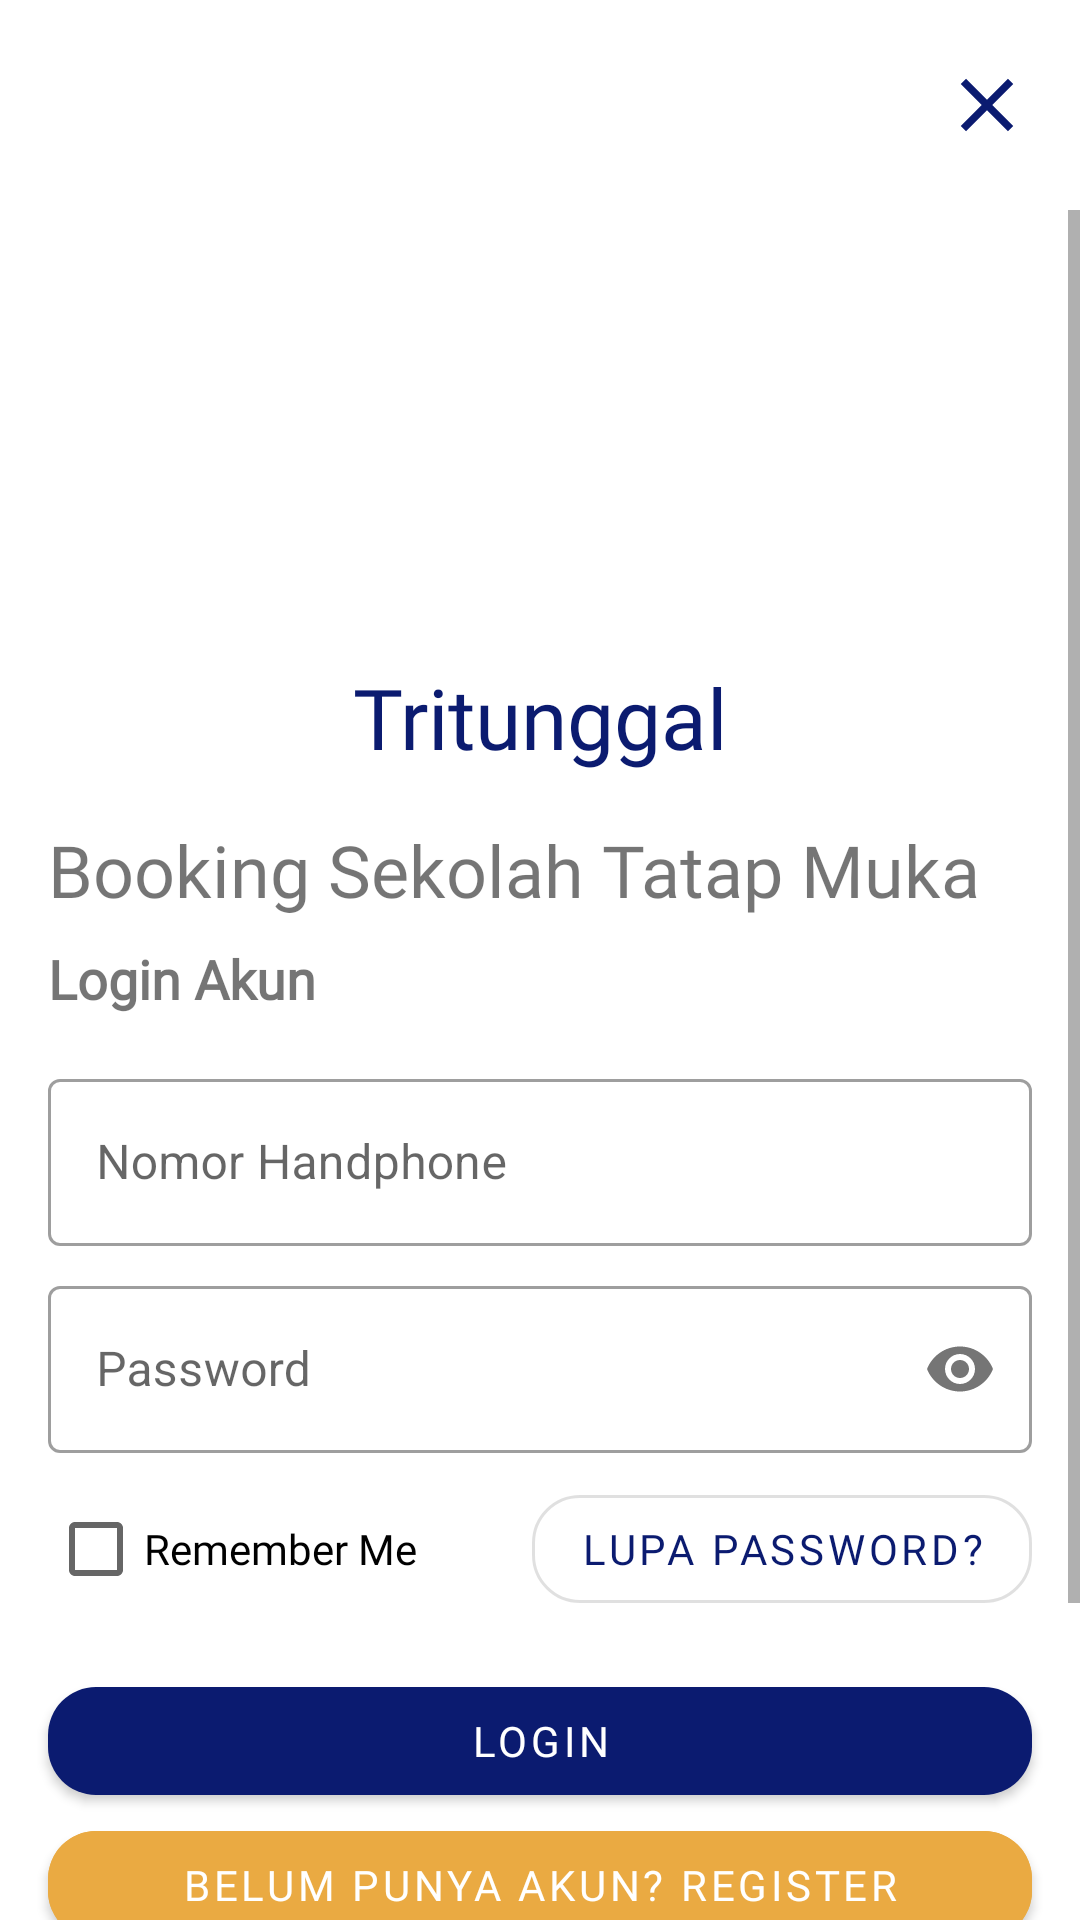

Named icons in this screenshot (1080 × 1920) and their centers, point (x, y):
close: point (987, 105)
